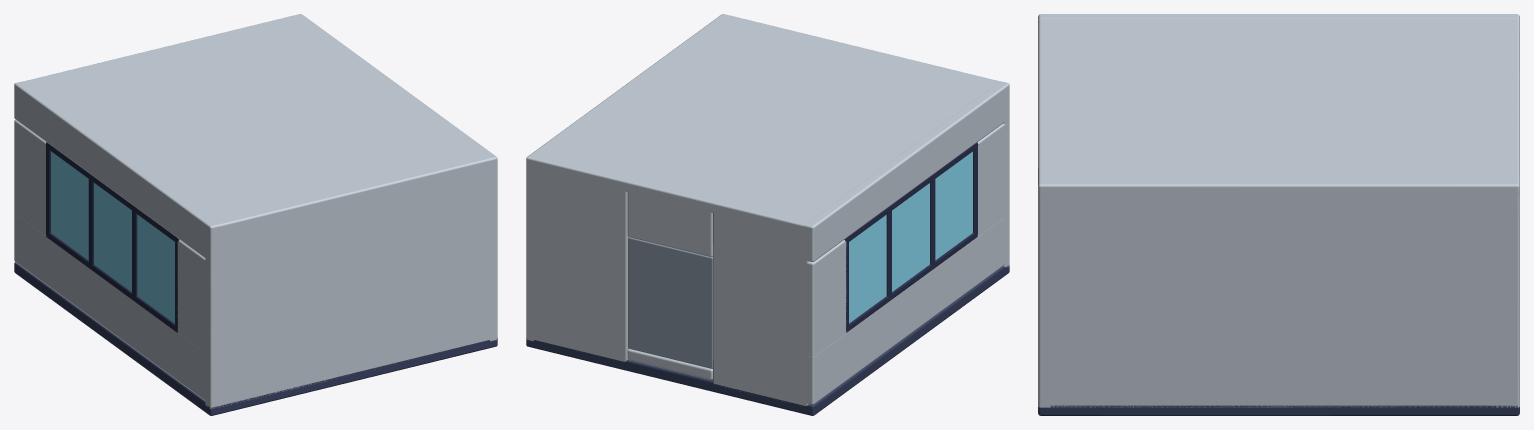
Rendered from esclusa.glb.
The picture shows the model from 3 angles, left to right: view 1: azimuth 30°, elevation 25°; view 2: azimuth 150°, elevation 25°; view 3: azimuth 270°, elevation 25°; orthographic projection. The views are drawn at different scales.
Visible parts, largest first — view 1: esclusa_techo-col, esclusa_pared_tras-col, esclusa_pared_izq_baja-col, esclusa_vidrio, esclusa_pared_izq_alta-col, esclusa_piso-col, esclusa_pared_izq_fondo-col, esclusa_pared_izq_frente-col, esclusa_pared_der-col, esclusa_ventanal_marco_bajo, esclusa_ventanal_marco_alto, esclusa_ventanal_marco_2 (+1 smaller); view 2: esclusa_techo-col, esclusa_pared_frente_der-col, esclusa_pared_frente_izq-col, esclusa_pared_izq_baja-col, escotilla_hoja-col, esclusa_vidrio, esclusa_pared_izq_alta-col, esclusa_piso-col, esclusa_pared_frente_alta-col, esclusa_pared_izq_frente-col, esclusa_pared_izq_fondo-col, esclusa_pared_der-col (+6 smaller); view 3: esclusa_pared_der-col, esclusa_techo-col, esclusa_piso-col, esclusa_pared_tras-col, esclusa_pared_izq_alta-col, esclusa_pared_frente_alta-col.
Part boxes in pixels (left/top/right/bottom): esclusa_techo-col: left=14, top=14, right=497, bottom=235; esclusa_pared_tras-col: left=205, top=165, right=497, bottom=409; esclusa_pared_izq_baja-col: left=14, top=213, right=219, bottom=403; esclusa_vidrio: left=51, top=151, right=174, bottom=323; esclusa_pared_izq_alta-col: left=14, top=81, right=219, bottom=260; esclusa_piso-col: left=14, top=262, right=497, bottom=415; esclusa_pared_izq_fondo-col: left=177, top=240, right=219, bottom=356; esclusa_pared_izq_frente-col: left=14, top=119, right=46, bottom=236; esclusa_pared_der-col: left=490, top=165, right=497, bottom=341; esclusa_ventanal_marco_bajo: left=46, top=233, right=177, bottom=332; esclusa_ventanal_marco_alto: left=46, top=142, right=179, bottom=241; esclusa_ventanal_marco_2: left=88, top=176, right=93, bottom=267; esclusa_techo-col: left=526, top=14, right=1009, bottom=235; esclusa_pared_frente_der-col: left=534, top=168, right=628, bottom=361; esclusa_pared_frente_izq-col: left=713, top=212, right=808, bottom=406; esclusa_pared_izq_baja-col: left=804, top=215, right=1009, bottom=404; escotilla_hoja-col: left=628, top=237, right=712, bottom=368; esclusa_vidrio: left=849, top=151, right=972, bottom=323; esclusa_pared_izq_alta-col: left=804, top=81, right=1009, bottom=261; esclusa_piso-col: left=526, top=265, right=1009, bottom=415; esclusa_pared_frente_alta-col: left=627, top=178, right=714, bottom=257; esclusa_pared_izq_frente-col: left=804, top=240, right=846, bottom=356; esclusa_pared_izq_fondo-col: left=977, top=123, right=1006, bottom=236; esclusa_pared_der-col: left=526, top=165, right=533, bottom=341; esclusa_pared_der-col: left=1038, top=193, right=1519, bottom=407; esclusa_techo-col: left=1038, top=19, right=1519, bottom=196; esclusa_piso-col: left=1038, top=405, right=1519, bottom=415; esclusa_pared_tras-col: left=1039, top=194, right=1050, bottom=407; esclusa_pared_izq_alta-col: left=1038, top=14, right=1519, bottom=20; esclusa_pared_frente_alta-col: left=1507, top=75, right=1519, bottom=125.
Bounding box in the file's own units: 5.4 × 3.41 × 6.4.
